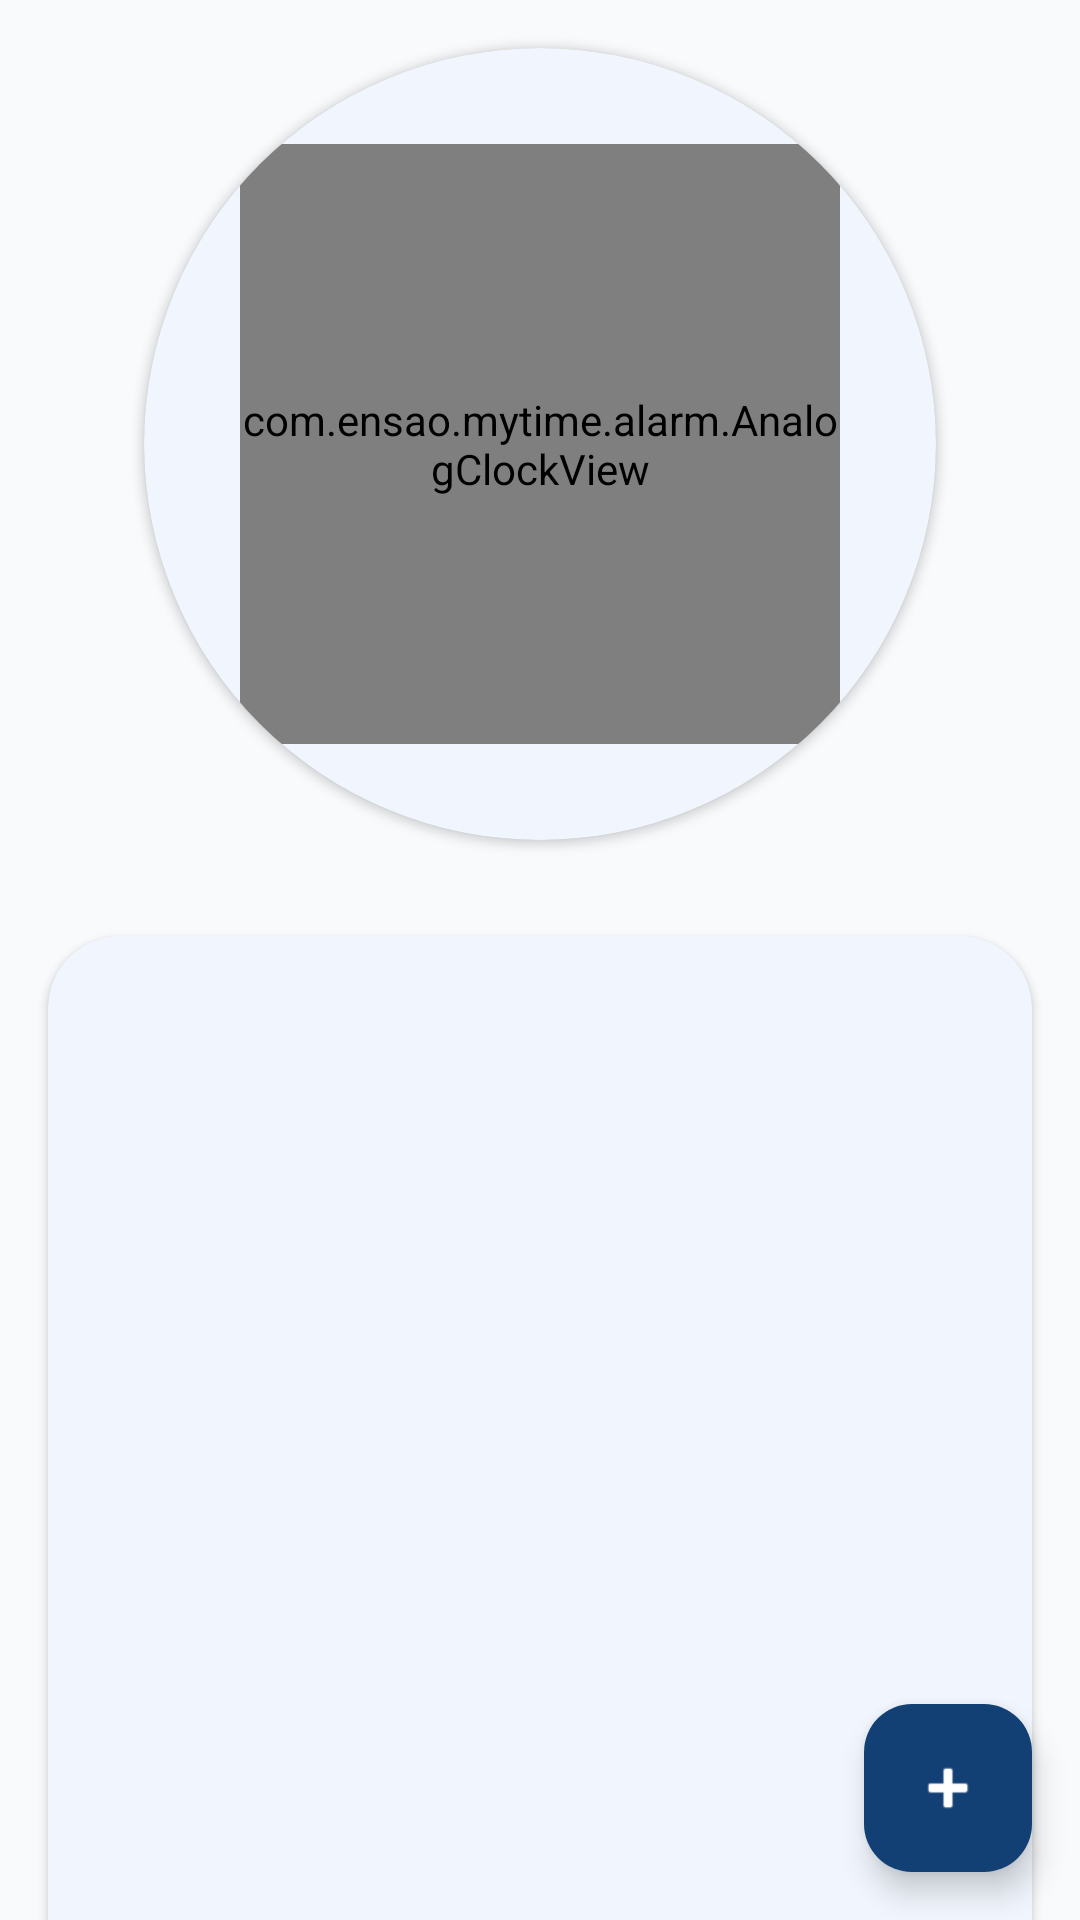

Named icons in this screenshot (1080px x 1920px) and their centers, (x,y):
Add alarm: (948,1788)
